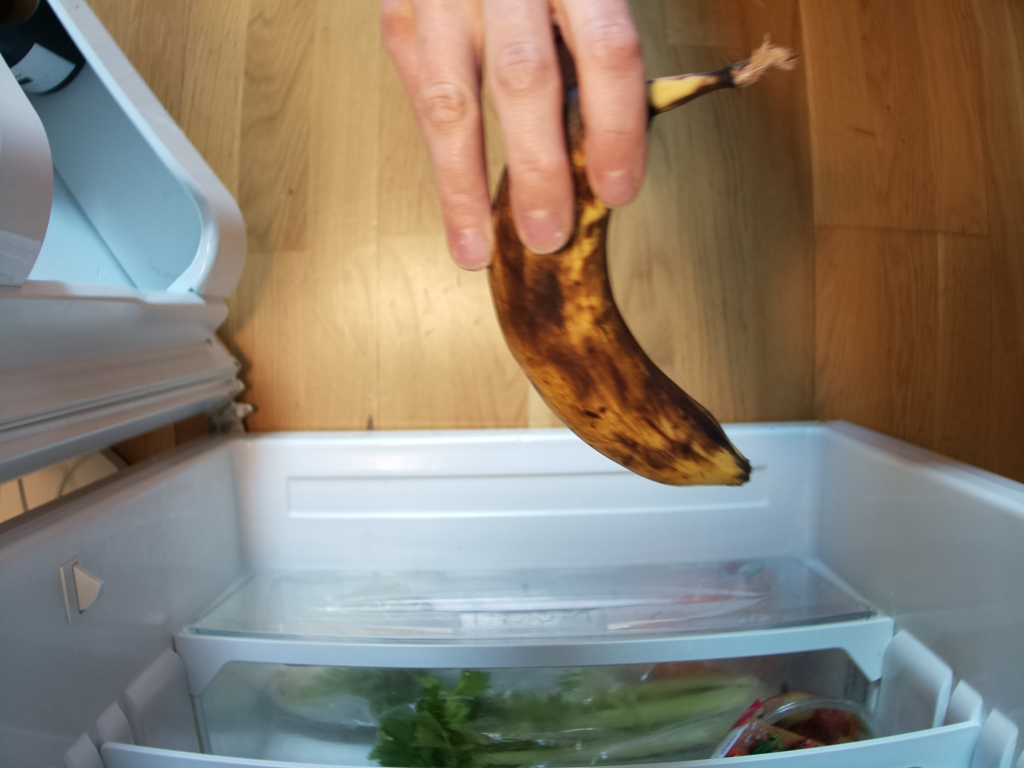banana-overripe: (487, 35, 796, 487)
